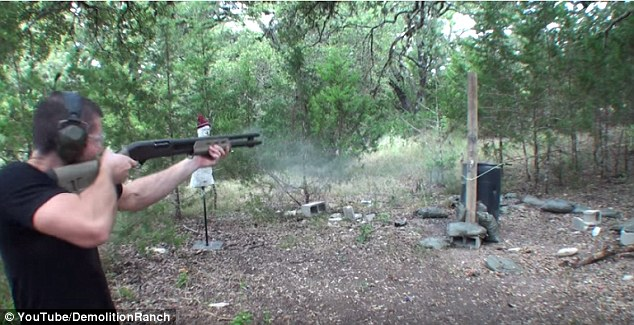rifle: (53, 131, 261, 188)
